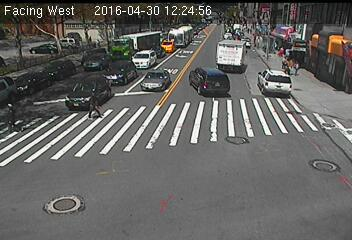neg: (5, 13, 38, 56), (317, 81, 341, 112), (36, 48, 59, 79), (289, 88, 308, 114), (211, 12, 226, 32), (117, 7, 130, 24), (155, 15, 167, 32)
